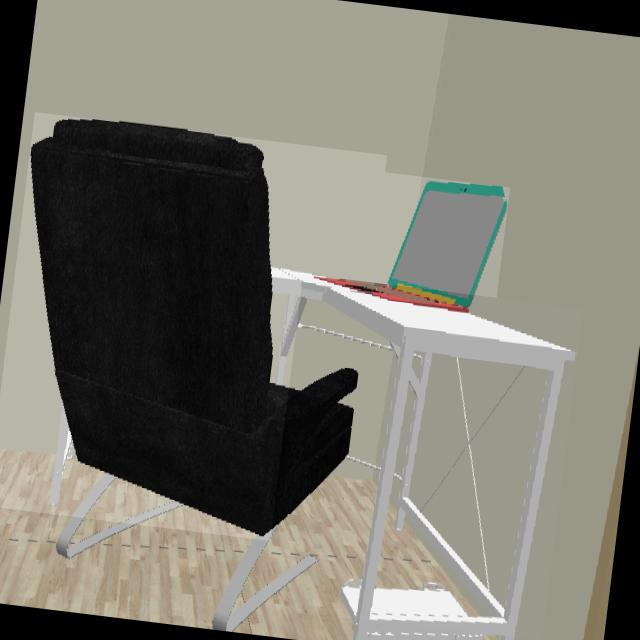chair: (29, 120, 356, 540)
laptop: (338, 183, 508, 313)
table: (302, 276, 577, 637)
